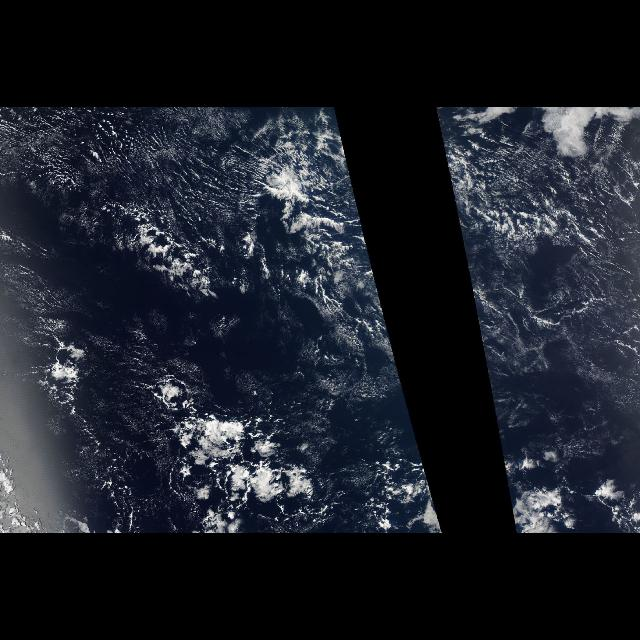Gravel: (128, 334, 324, 522)
Sugar: (2, 108, 342, 298), (470, 141, 638, 421)
